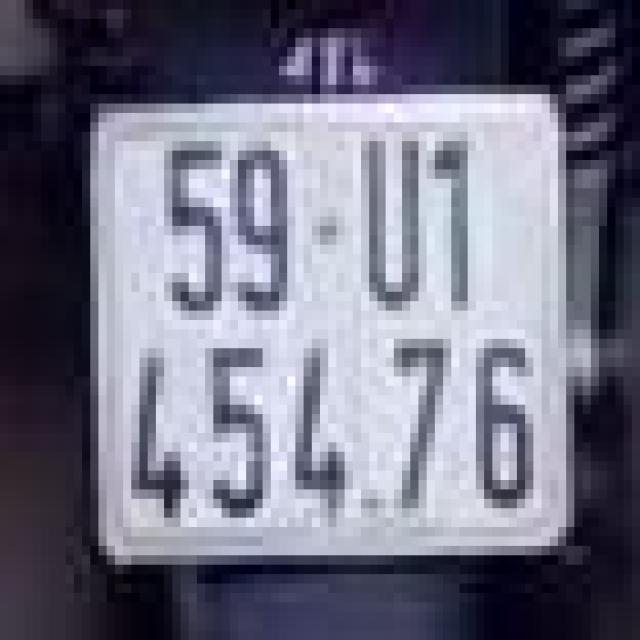1: (431, 108, 513, 325)
4: (106, 330, 188, 518), (283, 330, 349, 518)
5: (156, 127, 230, 325), (205, 329, 271, 527)
6: (468, 334, 542, 522)
7: (378, 320, 460, 508)
9: (230, 132, 304, 329)
U: (344, 99, 426, 325)
